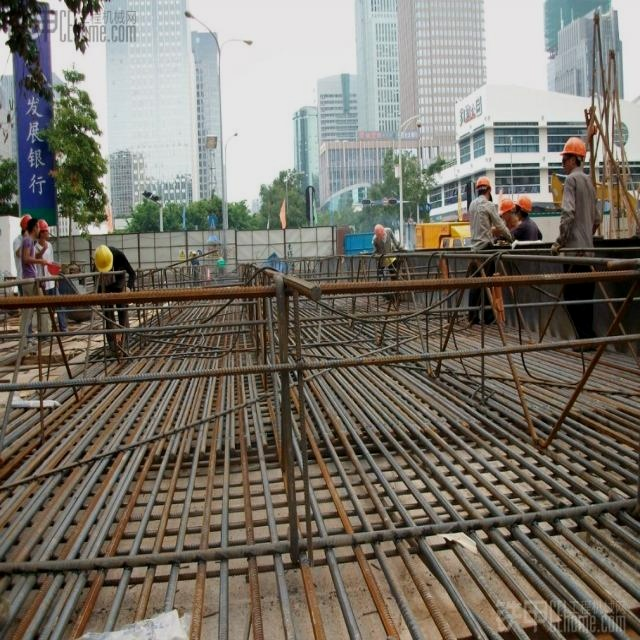Con_Casco: (559, 135, 585, 172), (94, 246, 114, 275)
